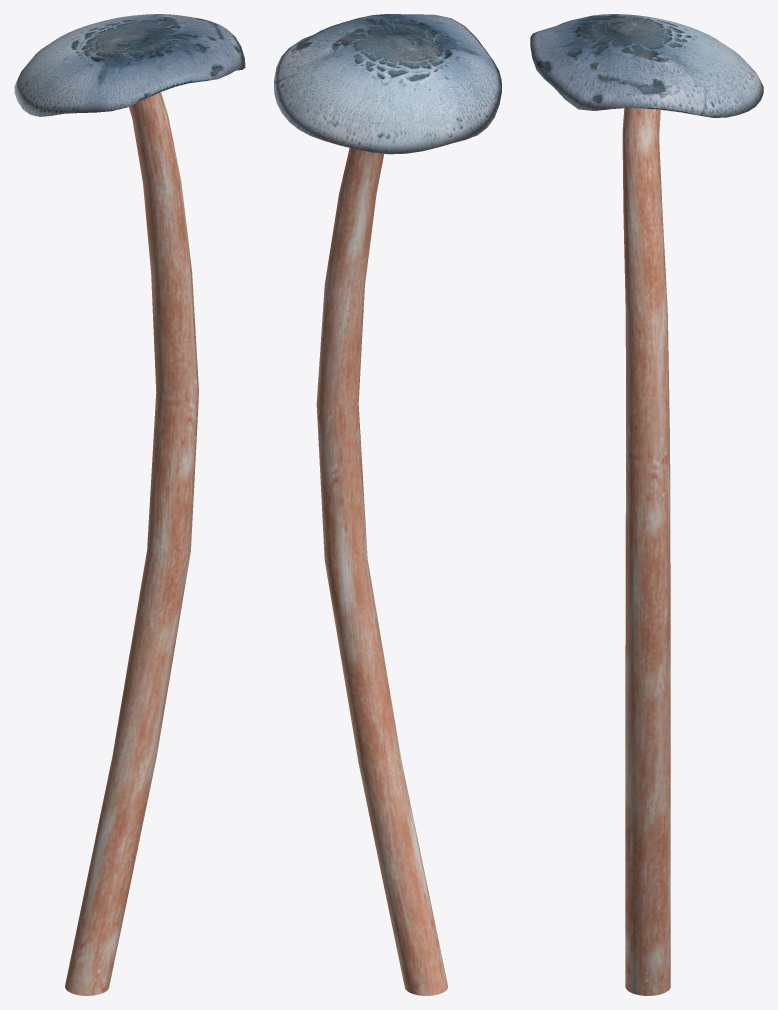
The model's file is mushy7.FBX.
3 renders of one model, left to right at view 1: azimuth 30°, elevation 25°; view 2: azimuth 150°, elevation 25°; view 3: azimuth 270°, elevation 25°, orthographic. The views are drawn at different scales.
Parts seen in each view (by area): view 1: mushy7_uv; view 2: mushy7_uv; view 3: mushy7_uv.
Part boxes in pixels (x1=…): mushy7_uv: x1=14, y1=14, x2=245, y2=995; mushy7_uv: x1=274, y1=14, x2=501, y2=995; mushy7_uv: x1=530, y1=14, x2=763, y2=995.
Bounding box in the file's own units: 99.37 × 452 × 97.89.
